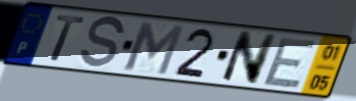2: (172, 27, 216, 80)
E: (260, 36, 320, 90)
M: (122, 19, 187, 77)
N: (217, 29, 279, 87)
S: (77, 15, 127, 71)
T: (48, 13, 88, 64)
